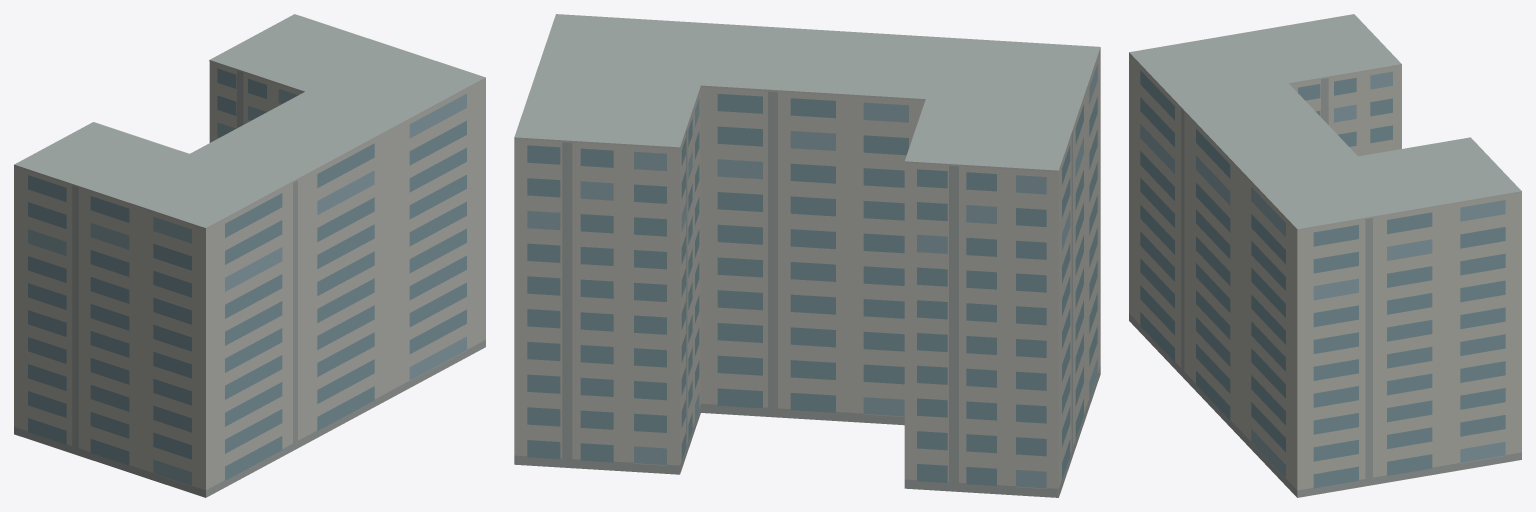
File: residential-ce326008-b27e-439e-8dac-e3931f250fdc.glb
3 views of the same model, side by side, from view 1: azimuth 30°, elevation 25°; view 2: azimuth 150°, elevation 25°; view 3: azimuth 270°, elevation 25° (orthographic). The views are drawn at different scales.
Visible parts, largest first — view 1: residential-ce326008-b27e-439e-8dac-e3931f250fdc.tmp; view 2: residential-ce326008-b27e-439e-8dac-e3931f250fdc.tmp; view 3: residential-ce326008-b27e-439e-8dac-e3931f250fdc.tmp.
Boxes of the visible parts, box(x1,y1,x2,y2) form: residential-ce326008-b27e-439e-8dac-e3931f250fdc.tmp: box(14, 14, 485, 497); residential-ce326008-b27e-439e-8dac-e3931f250fdc.tmp: box(514, 14, 1100, 497); residential-ce326008-b27e-439e-8dac-e3931f250fdc.tmp: box(1129, 14, 1521, 497).
Bounding box in the file's own units: 73.9 × 43 × 56.98.
